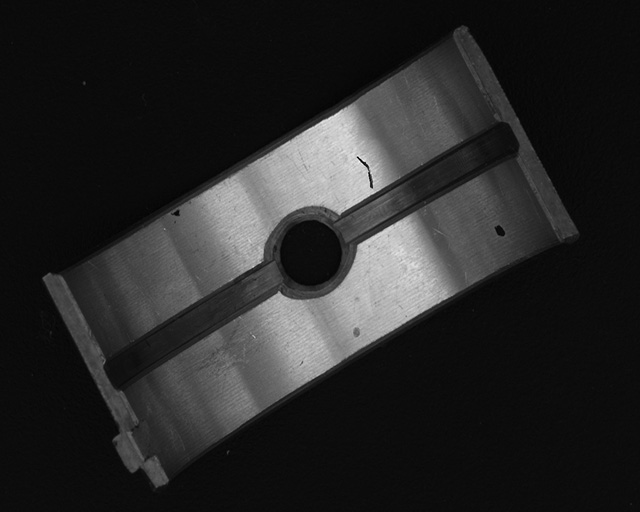blot: (494, 223, 507, 238), (171, 208, 182, 218)
bruise: (352, 324, 361, 338)
gap: (108, 261, 282, 389), (342, 126, 510, 245)
hole: (268, 209, 350, 294)
nick: (357, 156, 375, 190)
scratch: (175, 316, 256, 386)
